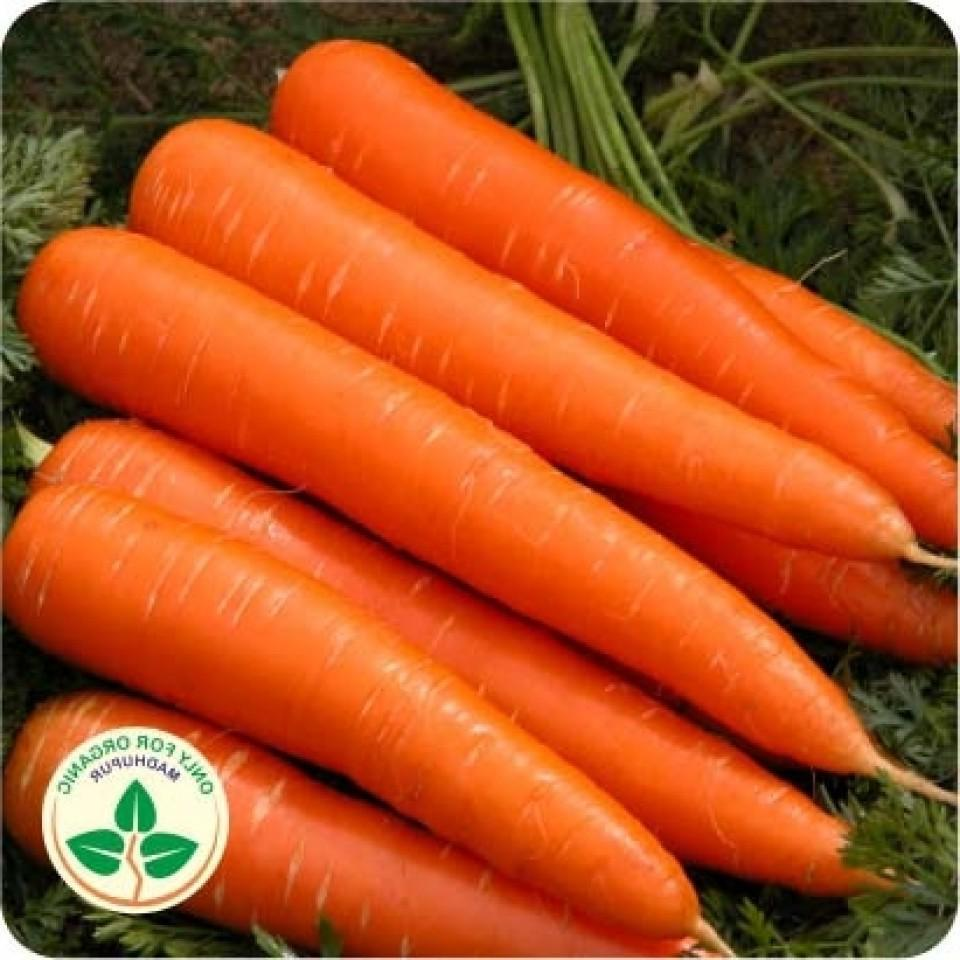carrot: (59, 47, 937, 732)
